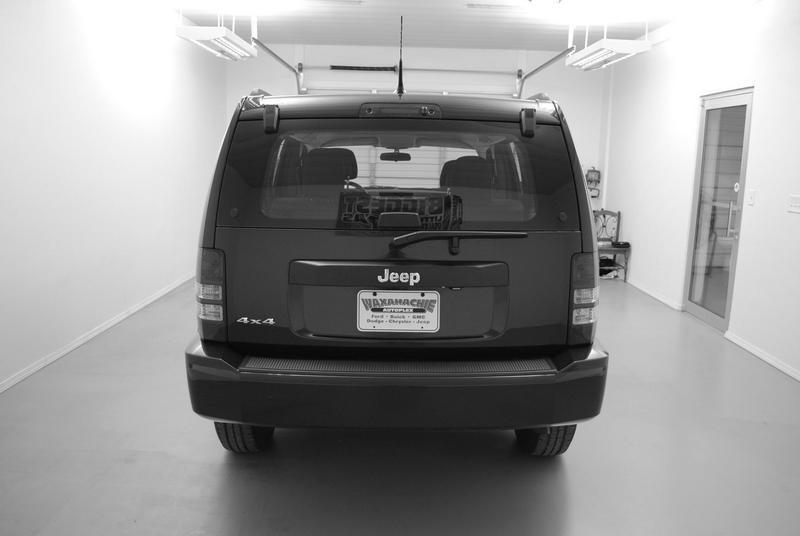car: (186, 17, 611, 467)
